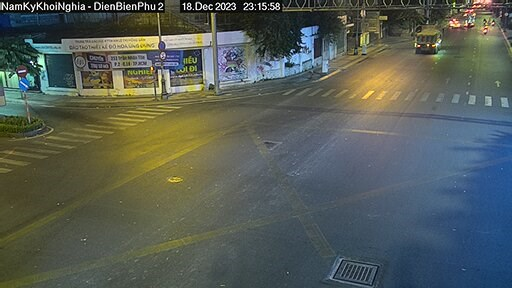truck: (408, 20, 446, 55)
